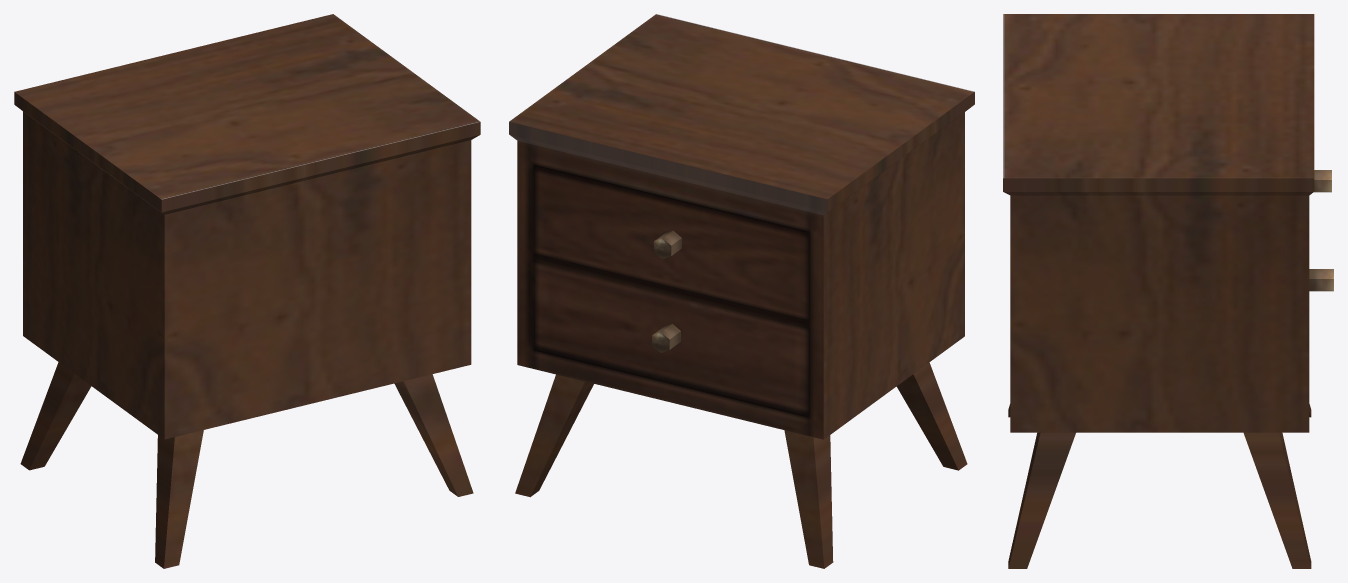
The model's file is Nightstand.fbx.
3 renders of one model, left to right at view 1: azimuth 30°, elevation 25°; view 2: azimuth 150°, elevation 25°; view 3: azimuth 270°, elevation 25°, orthographic. The views are drawn at different scales.
Parts seen in each view (by area): view 1: Nightstand; view 2: Nightstand; view 3: Nightstand.
Boxes of the visible parts, box(x1,y1,x2,y2) form: Nightstand: box(14, 14, 480, 568); Nightstand: box(509, 14, 974, 568); Nightstand: box(1003, 14, 1333, 568).
Size of the model in its own units: 52.01 by 44.24 by 58.
1 material, 1 textured.
